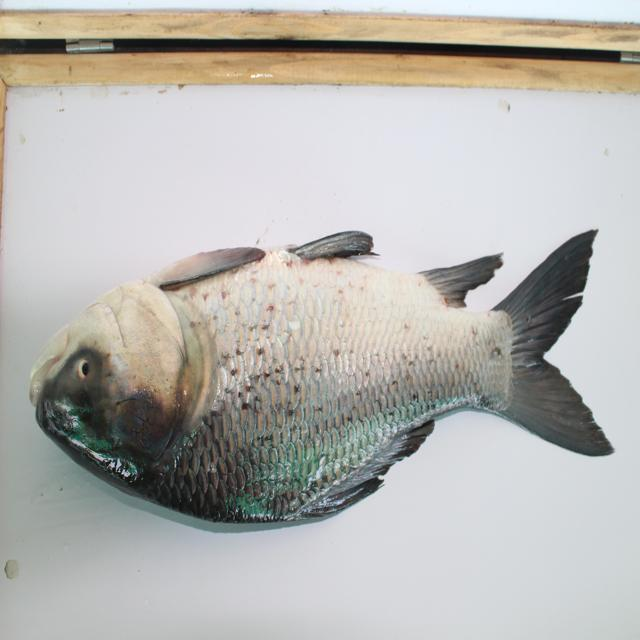Catla: (25, 218, 618, 546)
